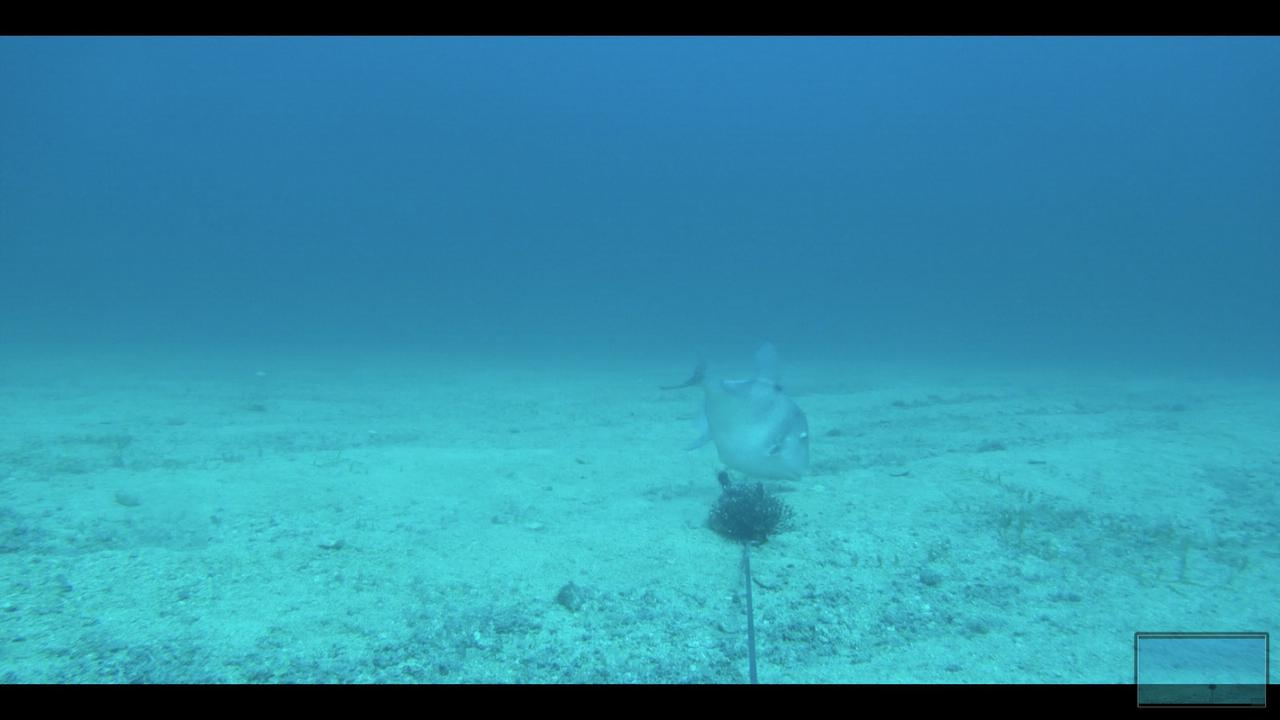balistes: (642, 328, 820, 490)
